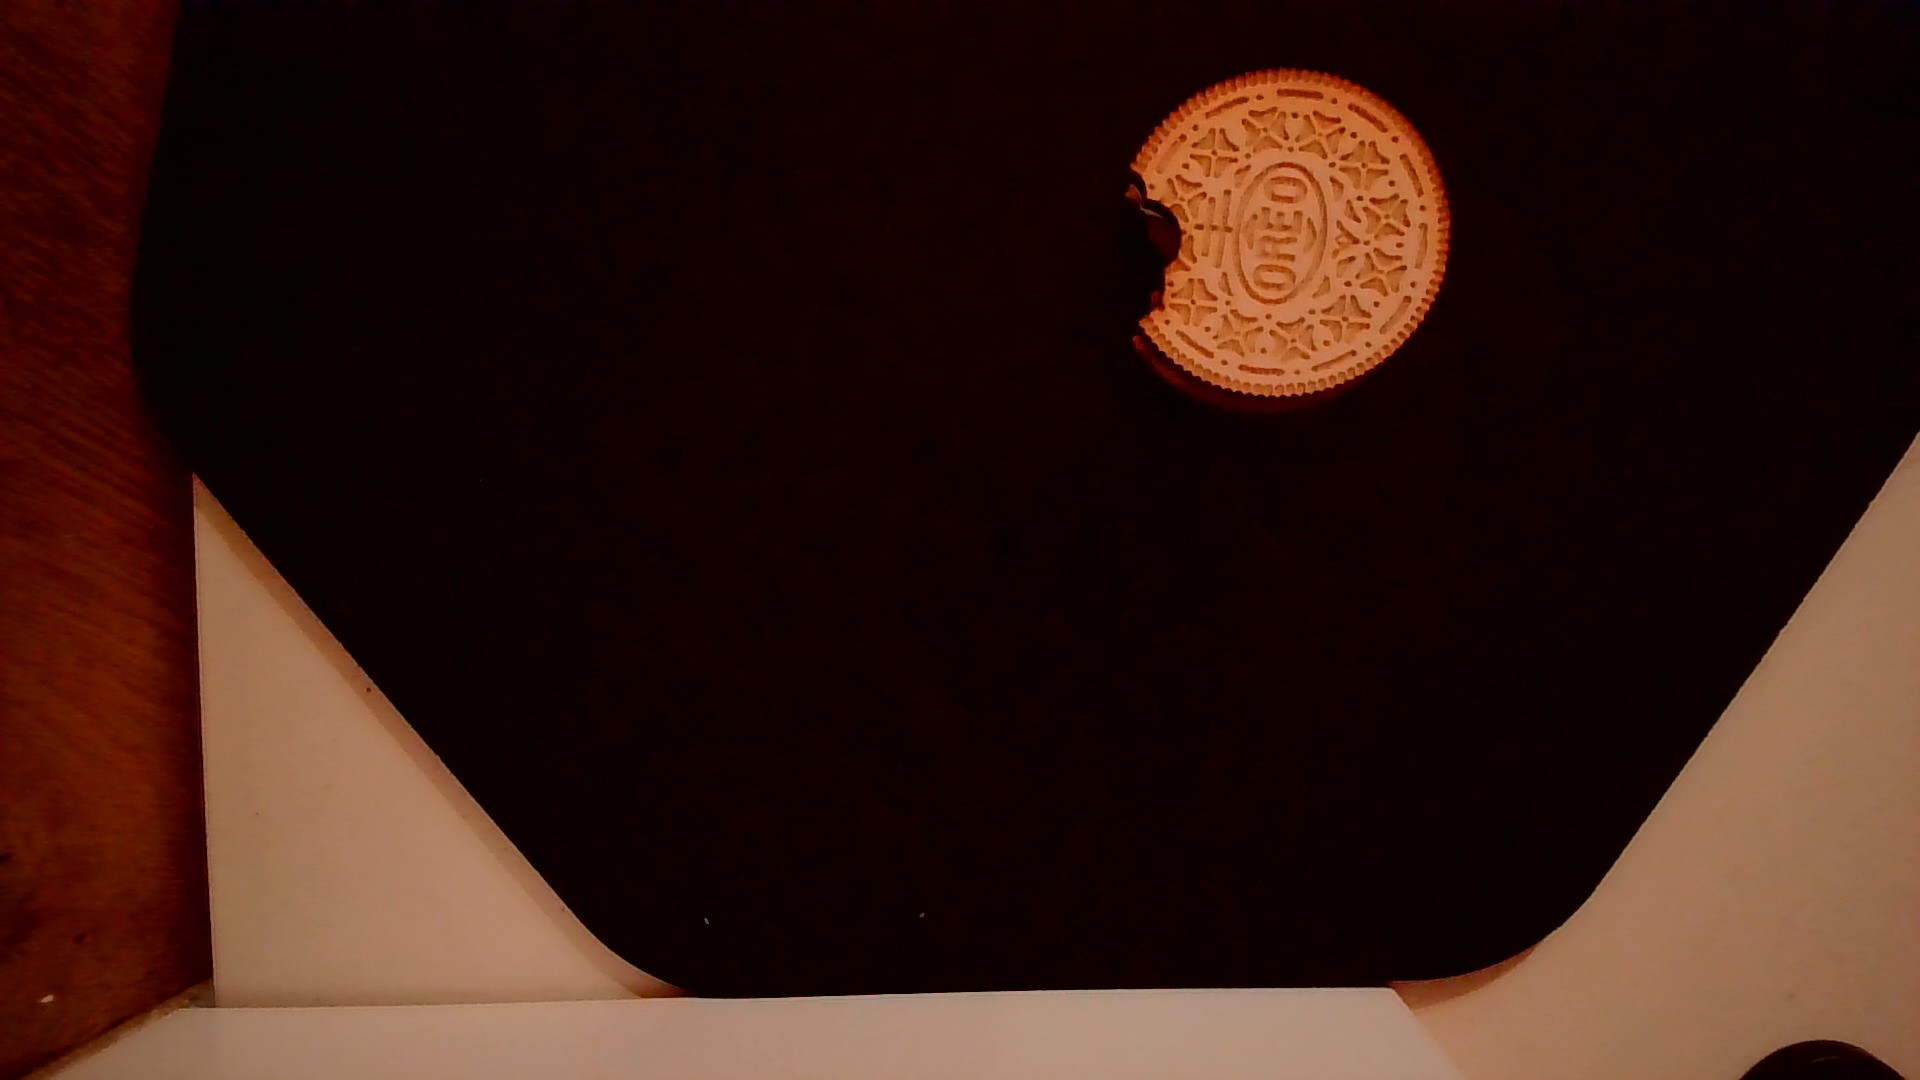Mangé: (1087, 152, 1189, 360)
Oréo: (1109, 59, 1462, 413)
